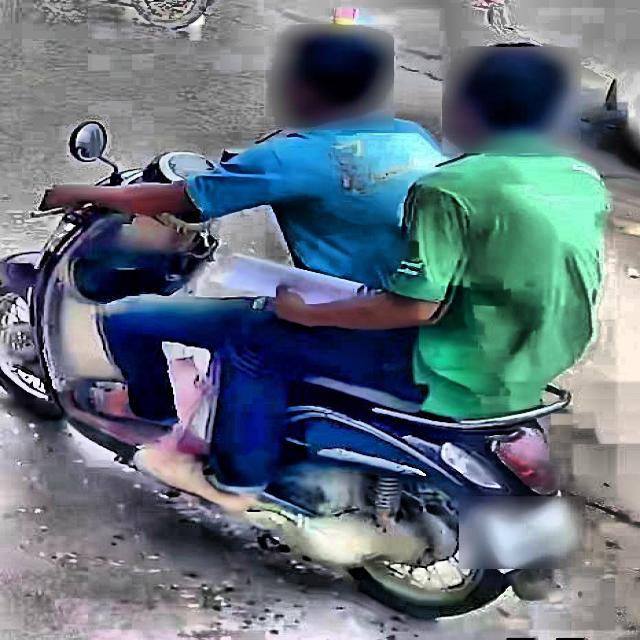motorcycle: (6, 118, 579, 621)
